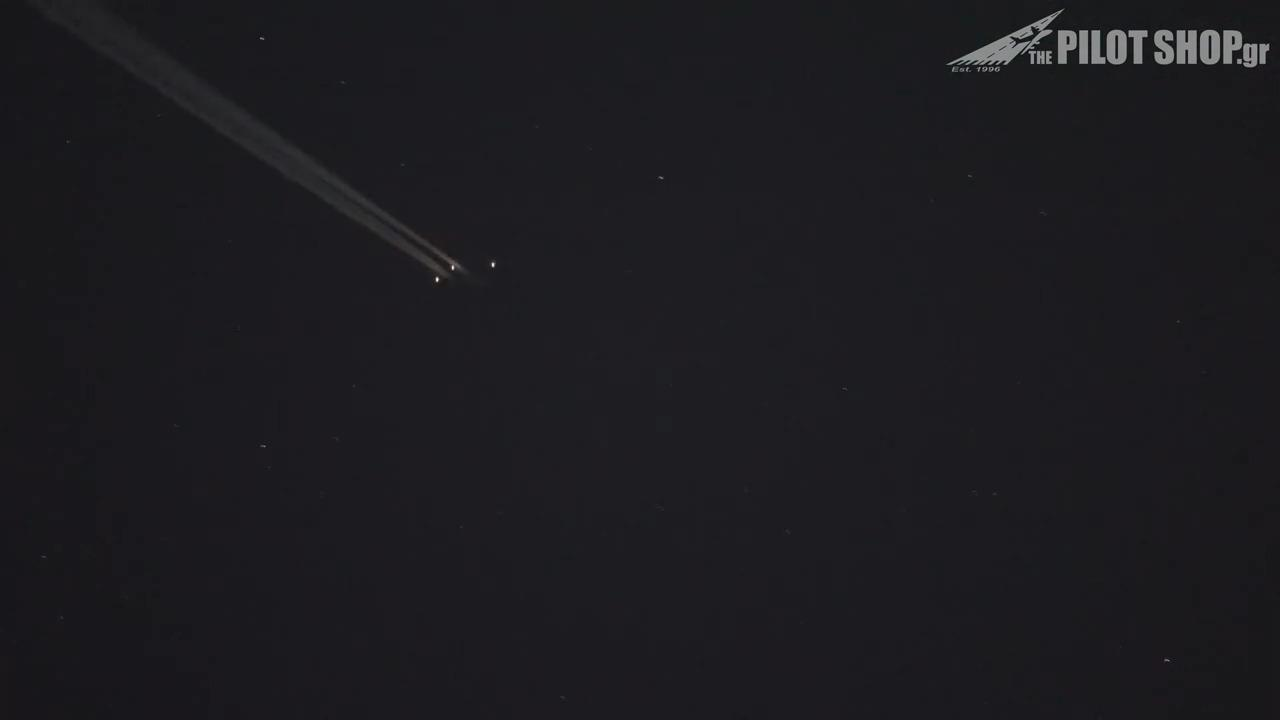Plane: (226, 136, 546, 315)
